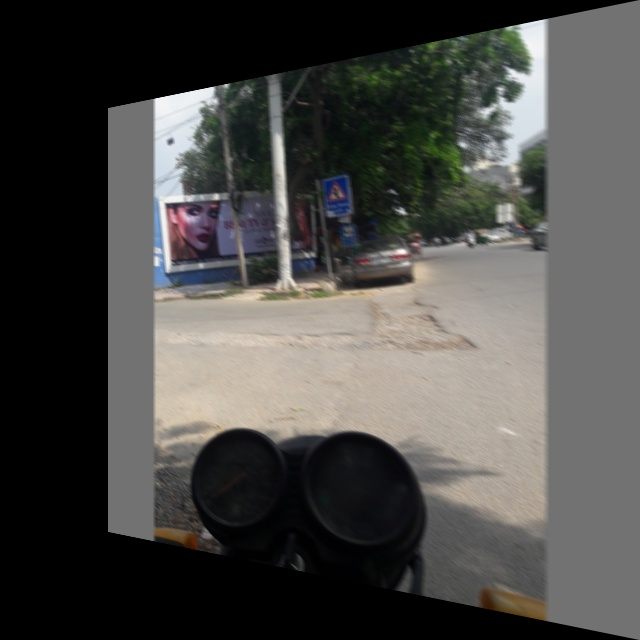Side_Road_Left: (324, 176, 350, 206)
